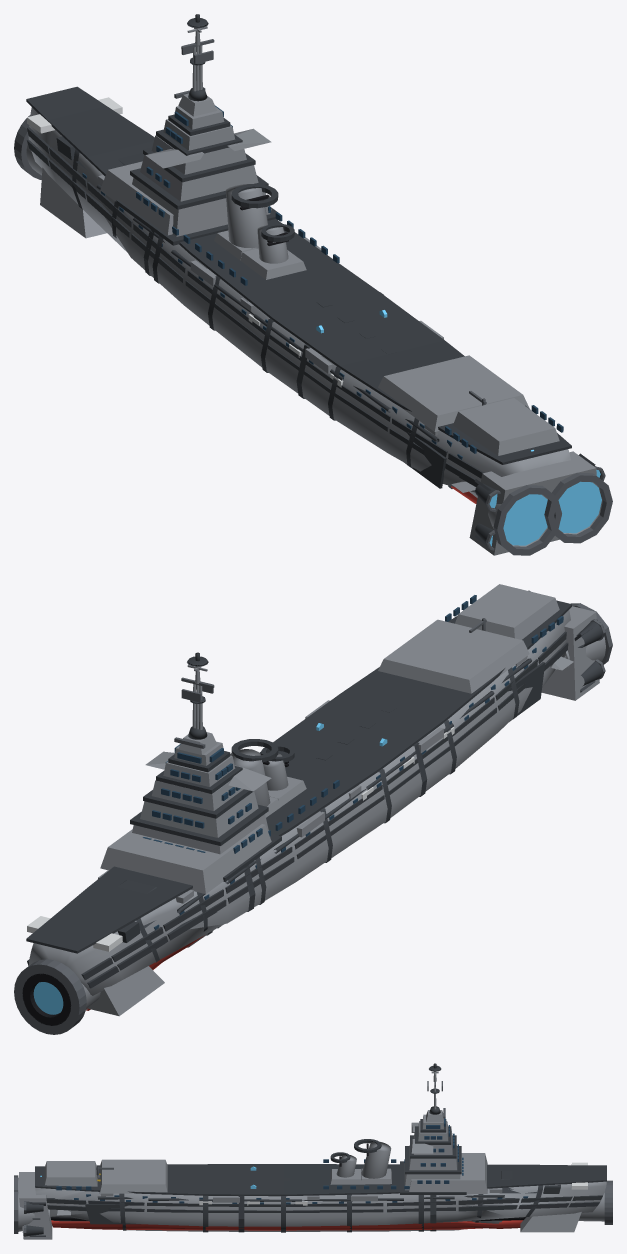
File: yamato.obj
3 views of the same model, one above another, from view 1: azimuth 30°, elevation 25°; view 2: azimuth 150°, elevation 25°; view 3: azimuth 270°, elevation 25° (orthographic). The views are drawn at different scales.
Visible parts, largest first — view 1: hull, superstructure, bridge, engine_nozzle, wing, wave_motion_gun, radiator; view 2: hull, superstructure, bridge, wave_motion_gun, engine_nozzle, wing, radiator; view 3: hull, superstructure, bridge, engine_nozzle, wave_motion_gun, radiator, wing.
Part boxes in pixels (box(x1,y1,x2,y2)): hull: box(26, 86, 571, 503); superstructure: box(82, 161, 563, 459); bridge: box(116, 14, 277, 245); engine_nozzle: box(469, 451, 612, 555); wing: box(145, 128, 475, 492); wave_motion_gun: box(14, 115, 42, 179); radiator: box(405, 432, 446, 488); hull: box(26, 600, 571, 1016); superstructure: box(98, 584, 563, 930); bridge: box(130, 652, 281, 881); wave_motion_gun: box(14, 959, 100, 1034); engine_nozzle: box(528, 590, 612, 700); wing: box(145, 656, 573, 791); radiator: box(508, 662, 544, 721); hull: box(35, 1162, 606, 1232); superstructure: box(44, 1139, 528, 1205); bridge: box(400, 1063, 466, 1194); engine_nozzle: box(14, 1172, 52, 1239); wave_motion_gun: box(578, 1180, 612, 1224); radiator: box(85, 1204, 140, 1224); wing: box(57, 1122, 433, 1215).
Bounding box in the file's own units: 48 × 101 × 333.
